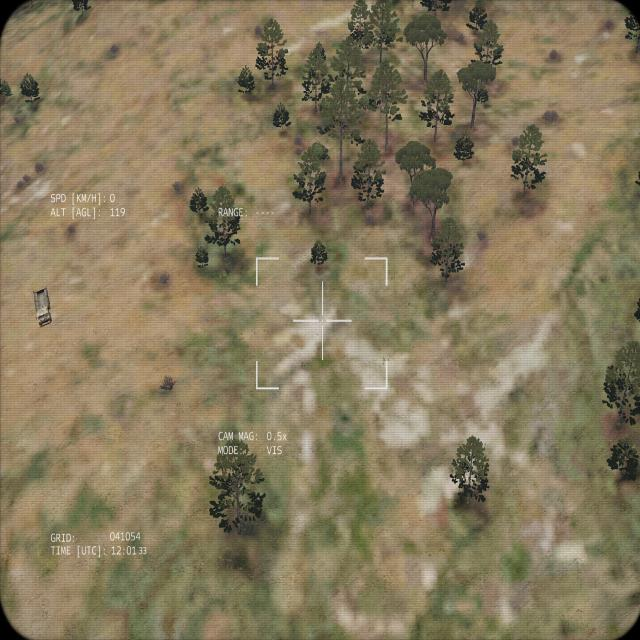truck: (32, 283, 52, 326)
